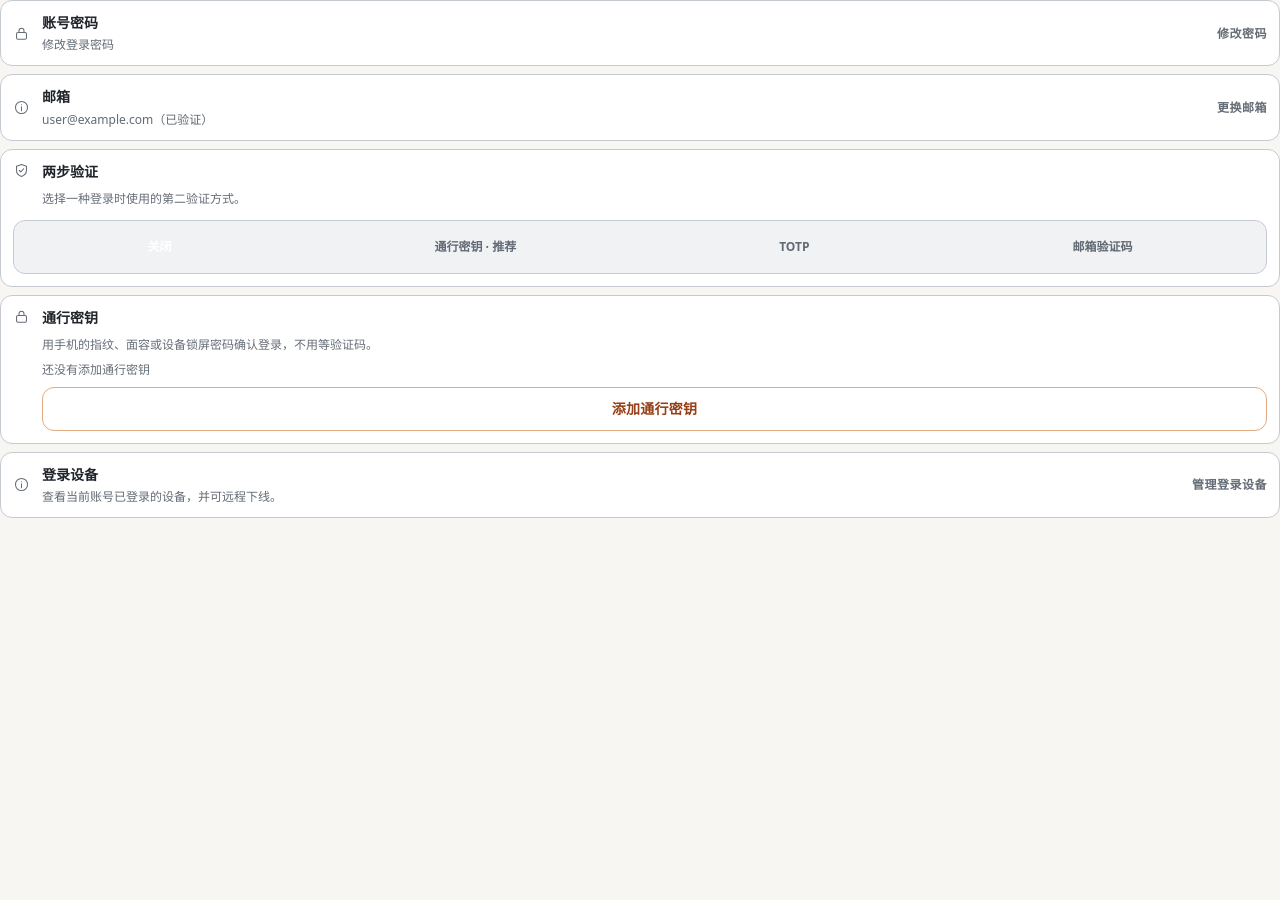
Test: 安全方式切换与抽屉 › 启用请求失败时不改变原选项，并在页面显示原因
Click the button "邮箱验证码" at (1102, 247), box x1=943 y1=225 x2=1262 y2=269
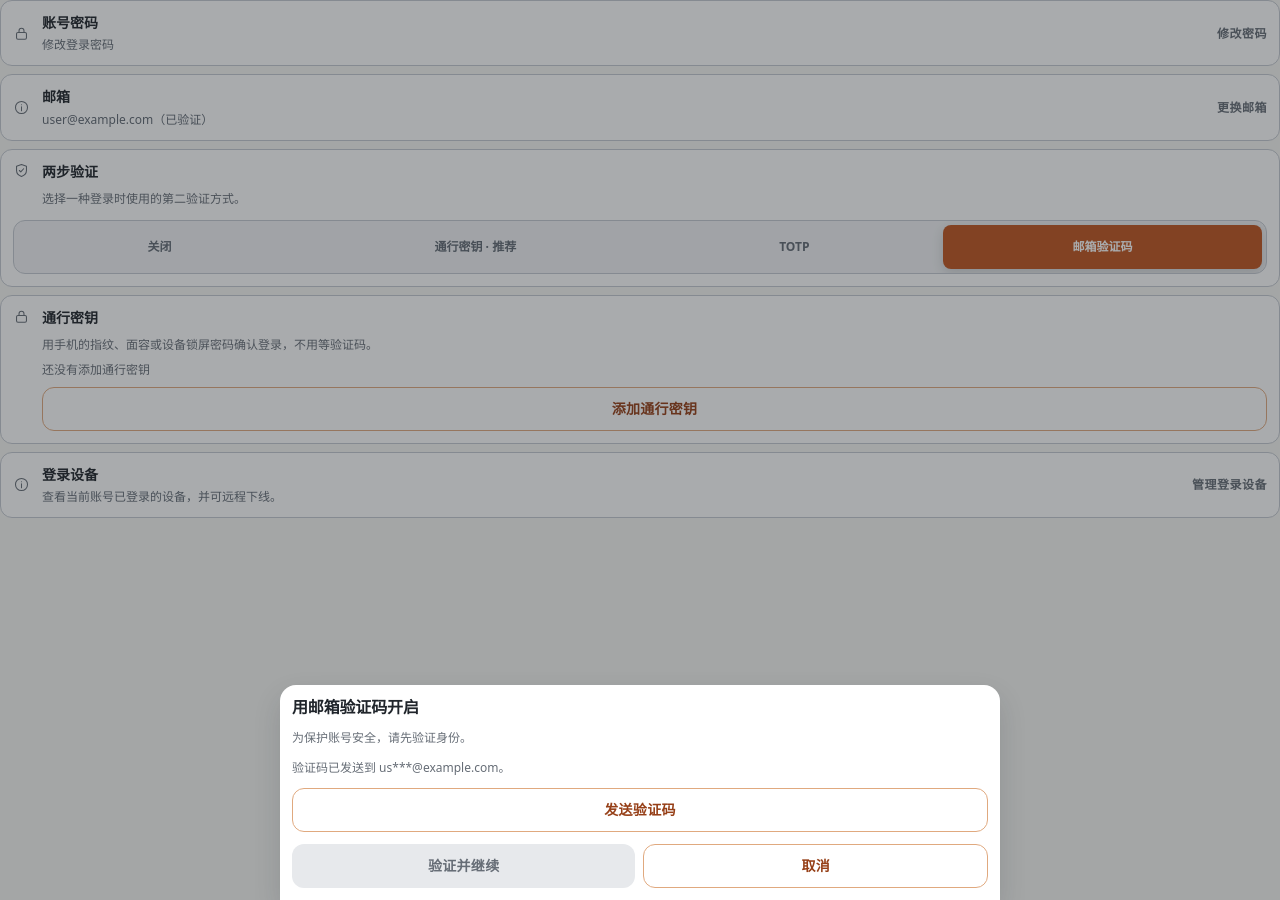
Click the button with class "ghost" showing "发送验证码" at (640, 810), box x1=292 y1=788 x2=988 y2=832
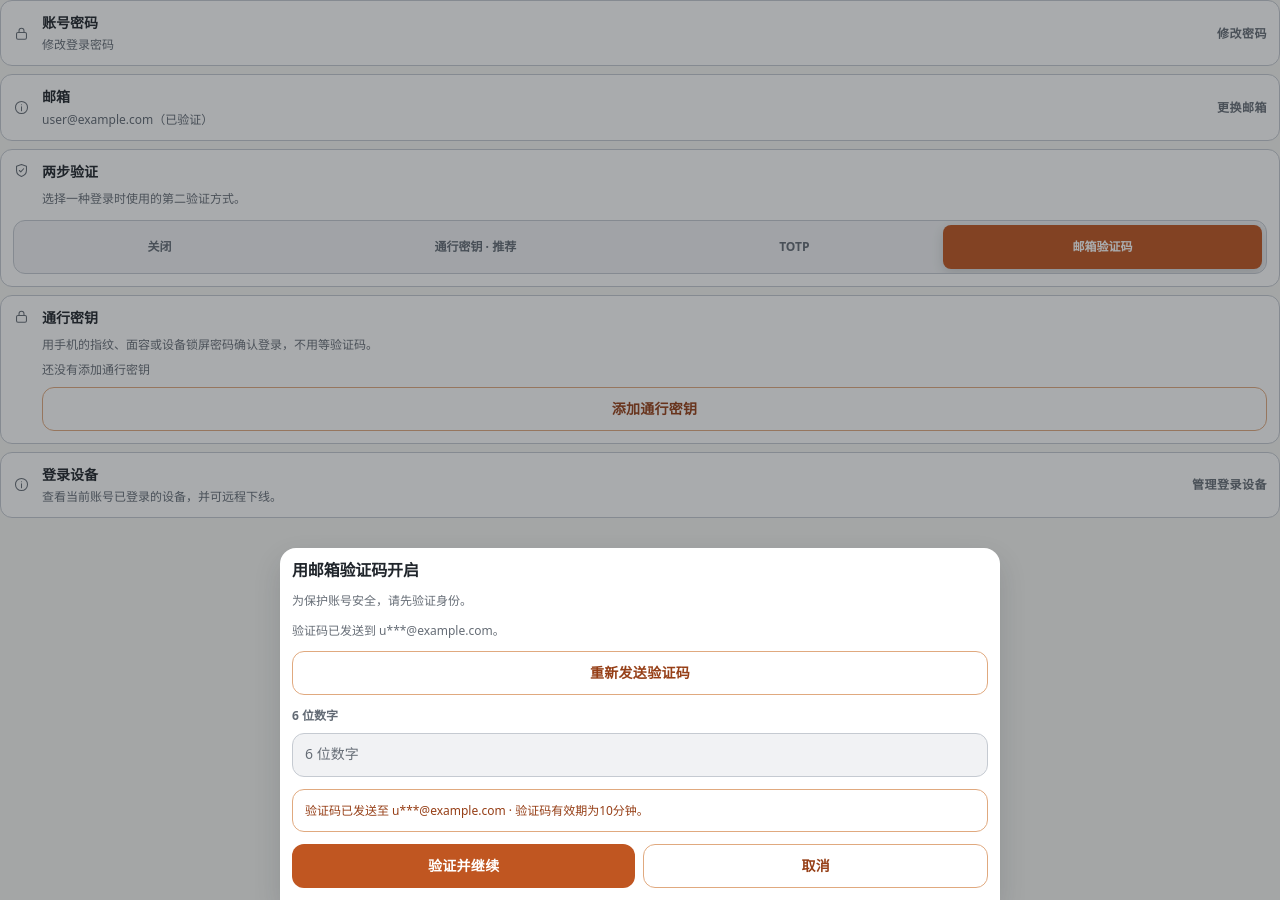
Type "123456" into the field with id "security-identity-code" at (640, 755), box x1=292 y1=733 x2=988 y2=777
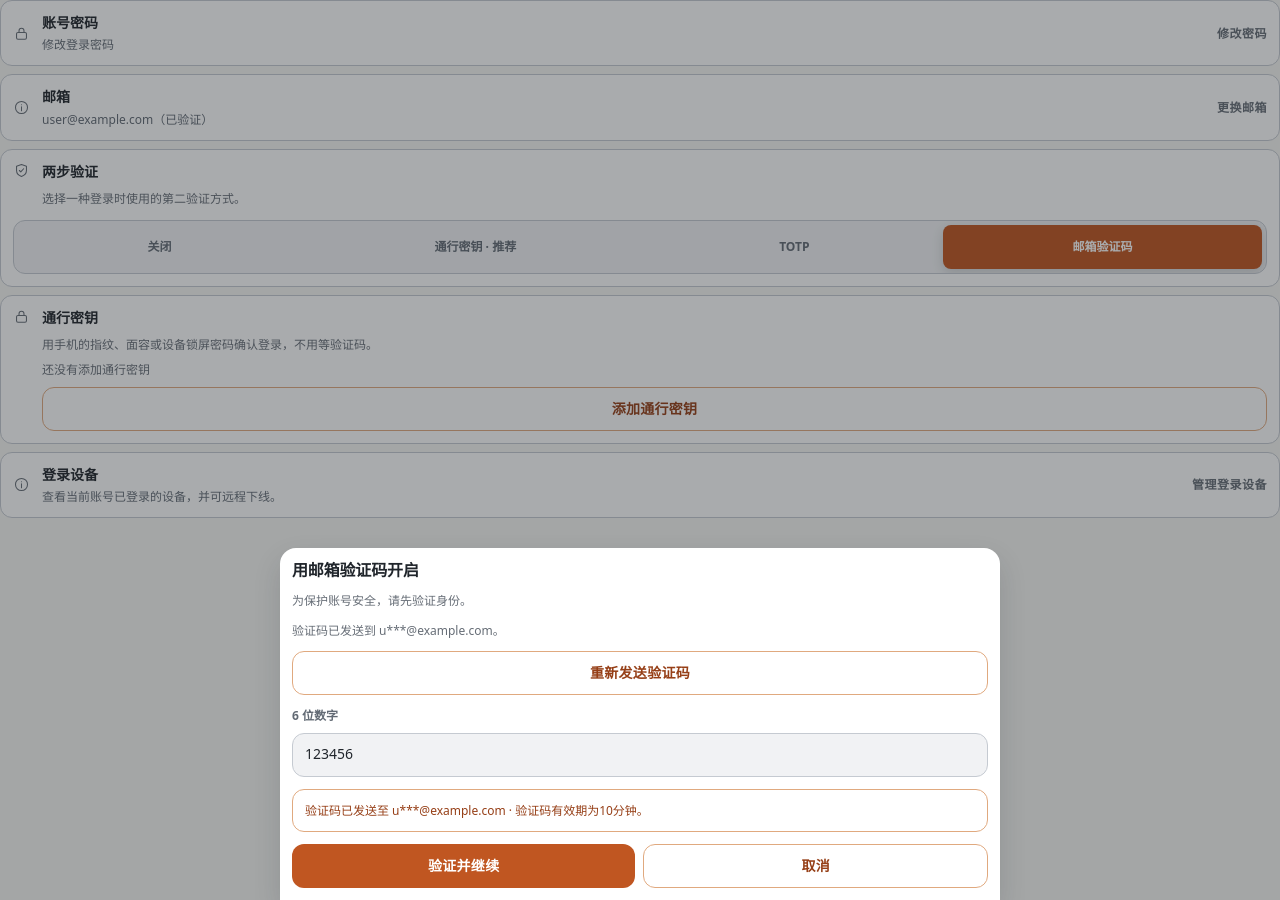
Click the button with class "cta" showing "验证并继续" at (464, 866), box x1=292 y1=844 x2=636 y2=888
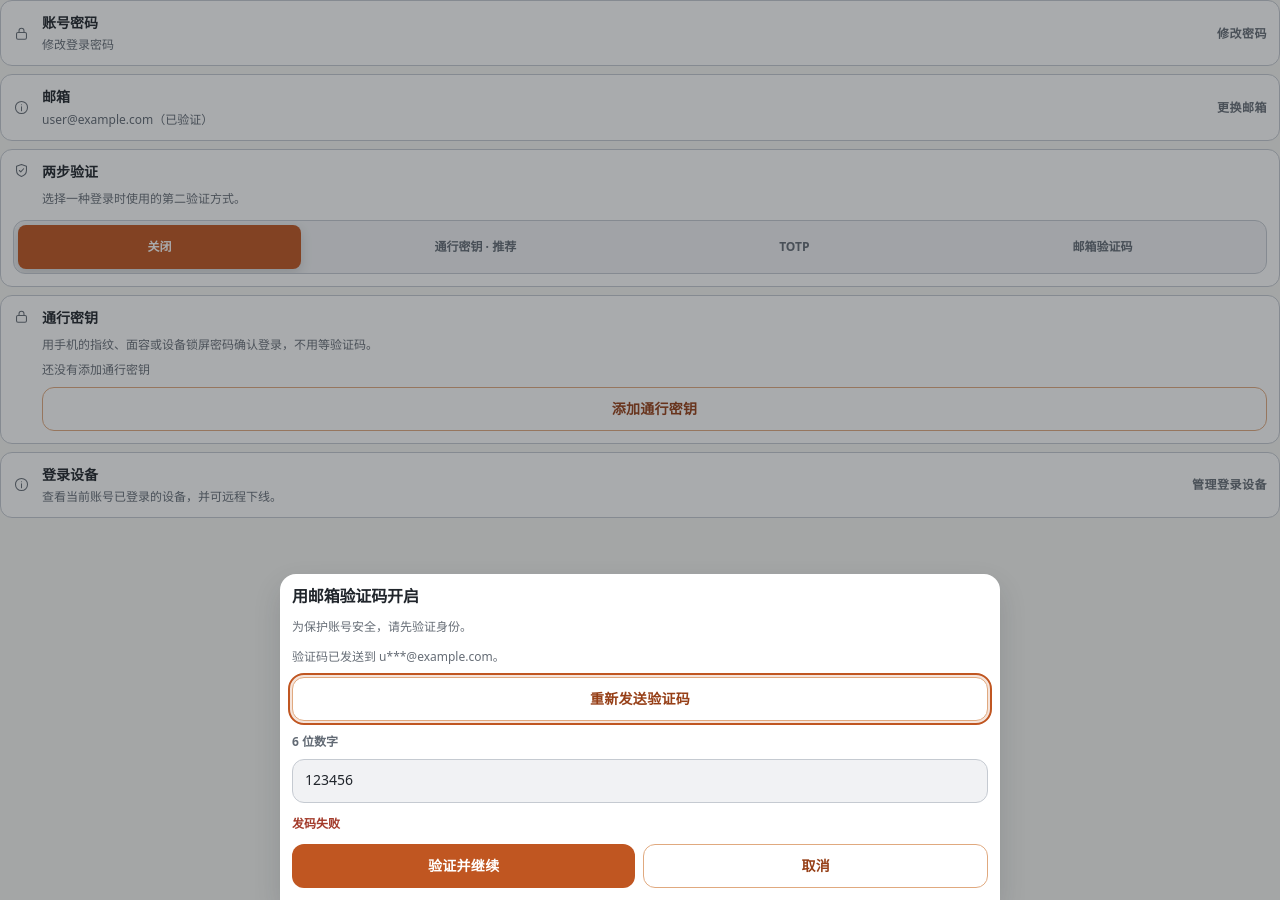
expect the dialog with class "sheet-panel" is shown: met, box x1=280 y1=574 x2=1000 y2=899
expect the message "发码失败" is shown: met, box x1=292 y1=815 x2=340 y2=832
